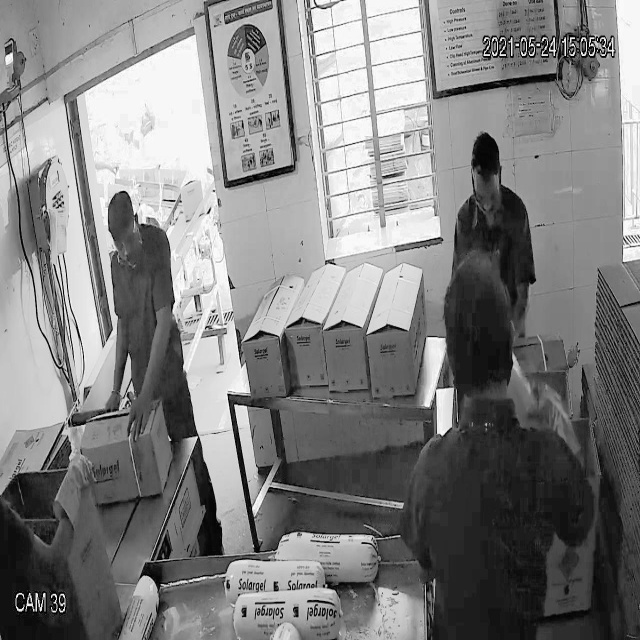Gafas: (107, 222, 140, 260), (473, 183, 504, 212)
